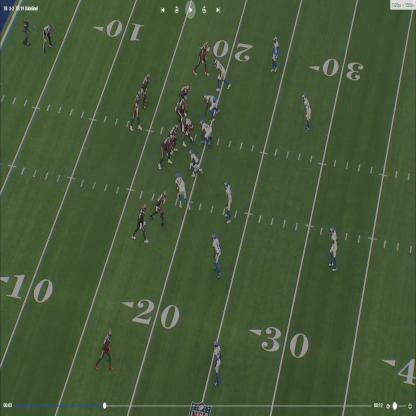CENTER: (182, 117, 194, 143)
DB: (212, 340, 222, 384), (212, 233, 220, 276), (329, 228, 337, 270), (304, 94, 312, 130), (273, 35, 280, 74)
LB: (215, 58, 228, 90), (224, 179, 232, 227)
QB: (132, 90, 143, 131)
SKILL: (98, 327, 114, 367), (151, 189, 166, 226), (134, 203, 147, 240), (194, 43, 208, 73), (144, 72, 151, 106)
